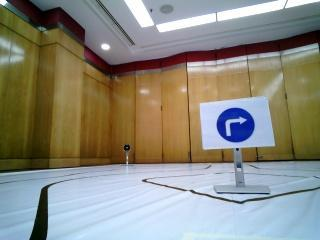right: (196, 100, 274, 148)
